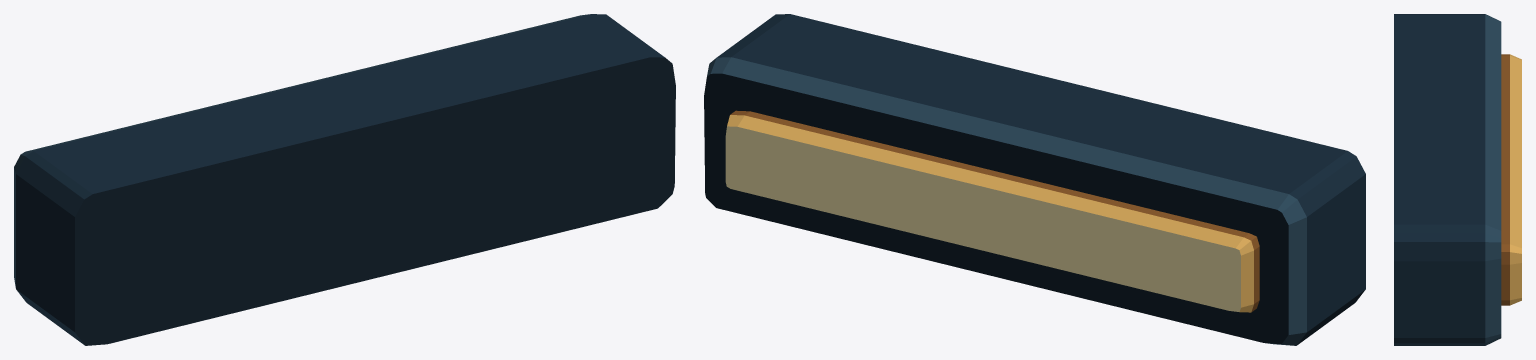
File: select_route_glyph_long.obj
The picture shows the model from 3 angles, left to right: view 1: azimuth 30°, elevation 25°; view 2: azimuth 150°, elevation 25°; view 3: azimuth 270°, elevation 25°; orthographic projection. The views are drawn at different scales.
Parts seen in each view (by area): view 1: select_route_glyph_long; view 2: select_route_glyph_long; view 3: select_route_glyph_long.
Part boxes in pixels (left/top/right/bottom): select_route_glyph_long: left=14, top=14, right=675, bottom=345; select_route_glyph_long: left=704, top=14, right=1365, bottom=345; select_route_glyph_long: left=1394, top=14, right=1521, bottom=345.
Bounding box in the file's own units: 1.29 × 0.3179 × 0.308.
